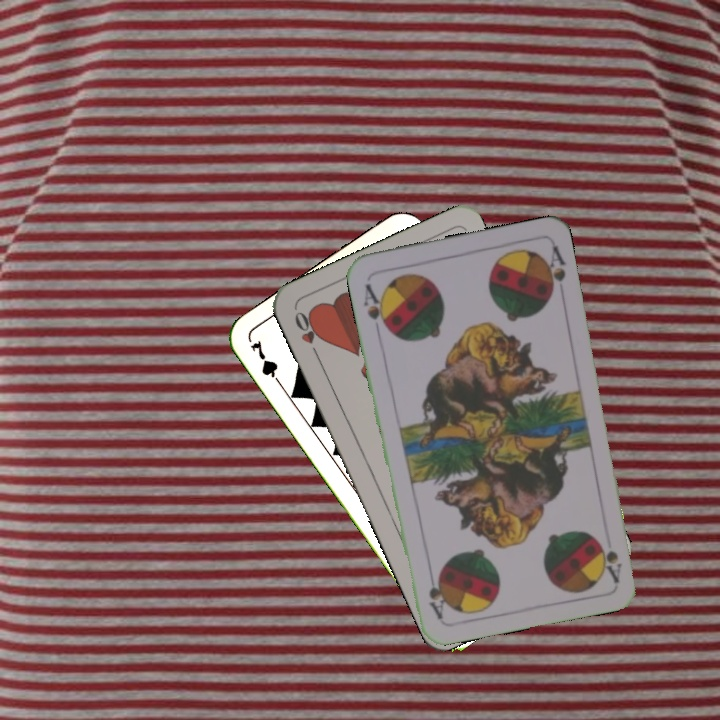G7: (246, 336, 286, 391)
HO: (290, 307, 323, 362)
SA: (359, 279, 392, 336), (596, 537, 625, 585)
